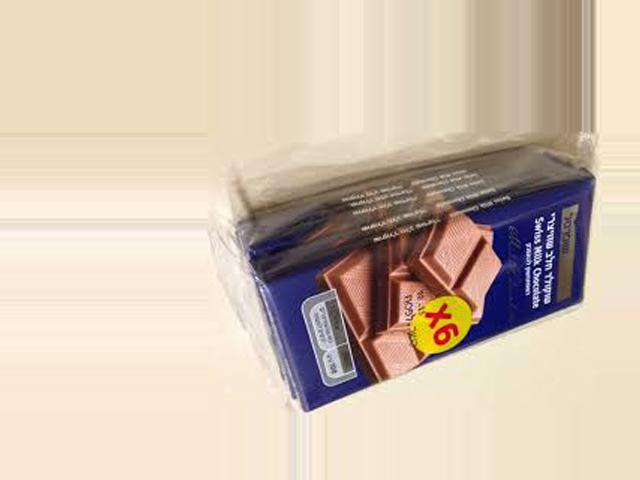chocolate: (257, 152, 594, 414)
